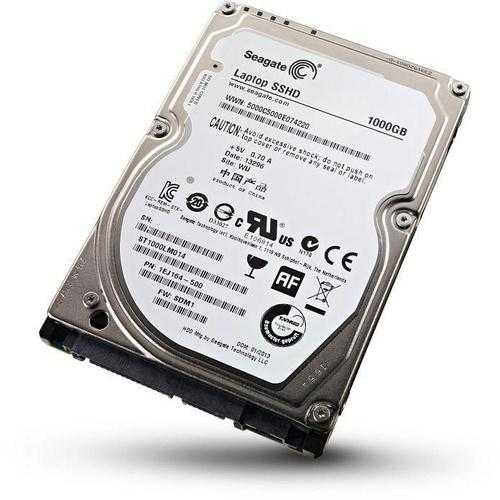internal HDD: (38, 2, 473, 461)
